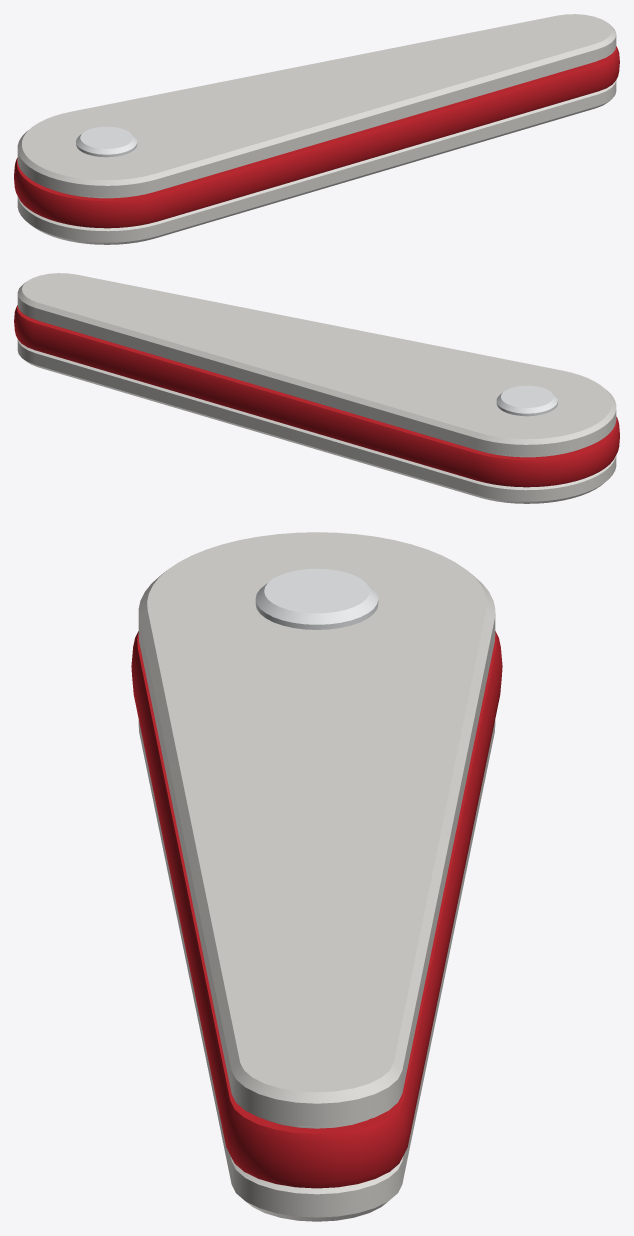
The model's file is flipper.glb.
3 views of the same model, one above another, from view 1: azimuth 30°, elevation 25°; view 2: azimuth 150°, elevation 25°; view 3: azimuth 270°, elevation 25° (orthographic). The views are drawn at different scales.
Visible parts, largest first — view 1: flipper; view 2: flipper; view 3: flipper.
Boxes of the visible parts, left/top/right/bottom form: flipper: left=14, top=14, right=619, bottom=244; flipper: left=14, top=273, right=619, bottom=503; flipper: left=131, top=532, right=502, bottom=1221.
Size of the model in its own units: 0.095 by 0.011 by 0.026.
